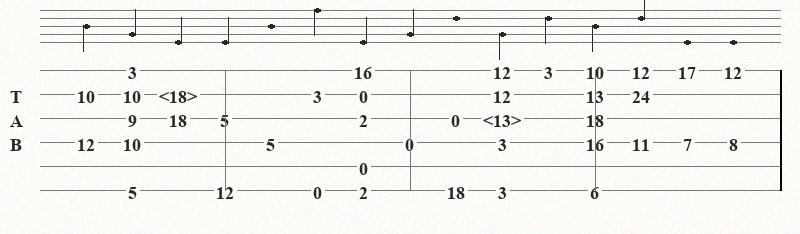0: (313, 182, 326, 198), (359, 158, 372, 174), (359, 86, 372, 102), (405, 134, 418, 150), (451, 110, 464, 126)
10: (77, 86, 99, 102), (123, 134, 145, 150), (123, 86, 145, 102), (586, 62, 608, 78)
11: (632, 134, 654, 150)
12: (77, 134, 99, 150), (216, 182, 238, 198), (493, 62, 515, 78), (493, 86, 515, 102), (632, 62, 654, 78), (724, 62, 746, 78)
13: (586, 86, 608, 102)
16: (354, 62, 376, 78), (586, 134, 608, 150)
17: (678, 62, 700, 78)
18: (169, 110, 191, 126), (447, 182, 469, 198), (586, 110, 608, 126)
2: (359, 182, 372, 198), (359, 110, 372, 126)
24: (632, 86, 654, 102)
3: (128, 62, 141, 78), (313, 86, 326, 102), (498, 134, 511, 150), (498, 182, 511, 198), (544, 62, 557, 78)
5: (128, 182, 141, 198), (220, 110, 233, 126), (266, 134, 279, 150)
6: (590, 182, 603, 198)
7: (683, 134, 696, 150)
8: (729, 134, 742, 150)
9: (128, 110, 141, 126)
harmonic: (159, 86, 201, 102), (483, 110, 525, 126)
